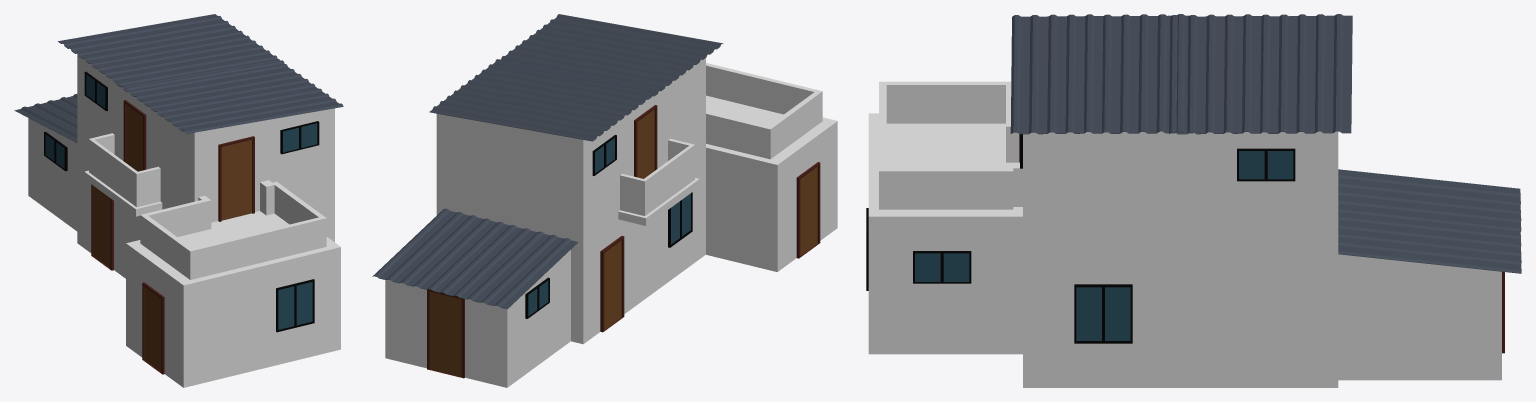
File: Slum 10.fbx
The picture shows the model from 3 angles, left to right: view 1: azimuth 30°, elevation 25°; view 2: azimuth 150°, elevation 25°; view 3: azimuth 270°, elevation 25°; orthographic projection. The views are drawn at different scales.
Visible parts, largest first — view 1: Roof.012, Side 2, Balcony 2, 1st Floor.011, 1st Floor.018, Side 2.001, Blacony.001, Side 1.001, Door.018, 1st Floor.019, Door.019, Window 1.030 (+7 smaller); view 2: Roof.012, 1st Floor.011, Roof.013, Side 2, 1st Floor.018, 1st Floor.019, Balcony 2, Side 1, Side 1.001, Side 2.001, Blacony.001, Door.017 (+7 smaller); view 3: Roof.012, 1st Floor.018, 1st Floor.019, Side 2.001, Side 1.001, Roof.013, Balcony 2, Side 2, Window 1.029, Window 2.023, Window 2.025.
Part boxes in pixels (x1,y1,x2,y2): Roof.012: [58, 14, 343, 133]; Side 2: [126, 211, 340, 387]; Balcony 2: [140, 180, 326, 279]; 1st Floor.011: [194, 108, 334, 222]; 1st Floor.018: [77, 54, 194, 209]; Side 2.001: [126, 243, 183, 387]; Blacony.001: [84, 133, 162, 216]; Side 1.001: [28, 118, 77, 231]; Door.018: [218, 136, 254, 221]; 1st Floor.019: [77, 148, 140, 278]; Door.019: [142, 282, 164, 374]; Window 1.030: [276, 279, 314, 332]; Roof.012: [429, 14, 723, 141]; 1st Floor.011: [436, 113, 583, 244]; Roof.013: [372, 208, 578, 309]; Side 2: [706, 95, 836, 271]; 1st Floor.018: [583, 58, 705, 244]; 1st Floor.019: [583, 155, 705, 343]; Balcony 2: [706, 63, 822, 159]; Side 1: [385, 279, 507, 387]; Side 1.001: [507, 250, 570, 387]; Side 2.001: [777, 121, 837, 271]; Blacony.001: [618, 138, 699, 225]; Door.017: [427, 289, 464, 378]; Roof.012: [1010, 14, 1352, 134]; 1st Floor.018: [1023, 132, 1338, 260]; 1st Floor.019: [1023, 260, 1338, 387]; Side 2.001: [868, 216, 1022, 354]; Side 1.001: [1338, 254, 1501, 380]; Roof.013: [1338, 169, 1521, 273]; Balcony 2: [879, 81, 1022, 209]; Side 2: [868, 113, 1022, 216]; Window 1.029: [1074, 284, 1132, 343]; Window 2.023: [1237, 148, 1295, 181]; Window 2.025: [913, 251, 971, 283].
Bounding box in the file's own units: 669 × 603 × 1314.
